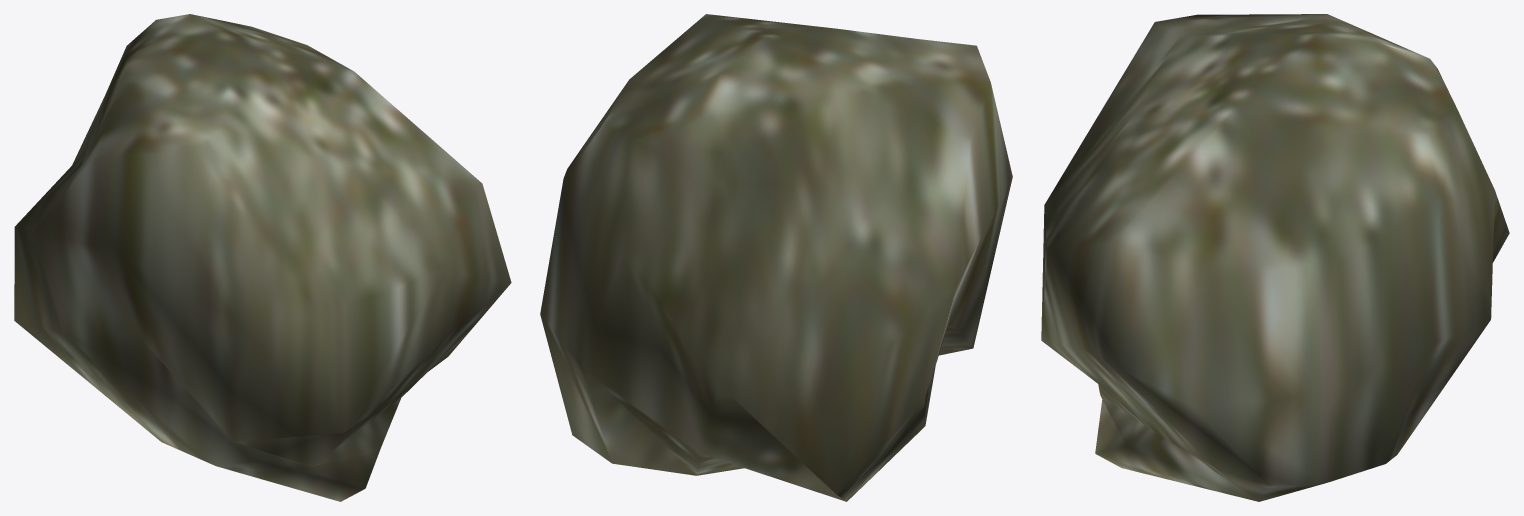
The model's file is ROCK_TROLL.fbx.
3 renders of one model, left to right at view 1: azimuth 30°, elevation 25°; view 2: azimuth 150°, elevation 25°; view 3: azimuth 270°, elevation 25°, orthographic. The views are drawn at different scales.
Parts seen in each view (by area): view 1: ROCK_TROLL; view 2: ROCK_TROLL; view 3: ROCK_TROLL.
Part boxes in pixels (x1=…): ROCK_TROLL: x1=14, y1=14, x2=511, y2=501; ROCK_TROLL: x1=540, y1=14, x2=1012, y2=501; ROCK_TROLL: x1=1041, y1=14, x2=1509, y2=501.
Size of the model in its own units: 5529 by 5715 by 5707.
